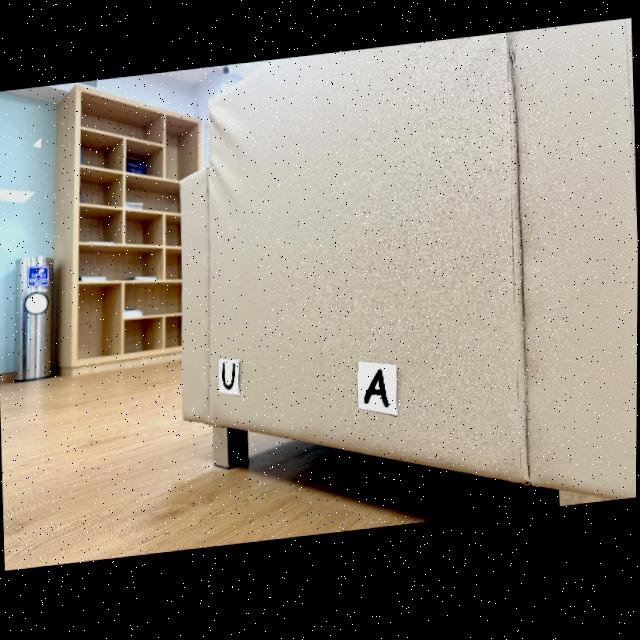A: (365, 375, 390, 414)
U: (222, 366, 236, 394)
